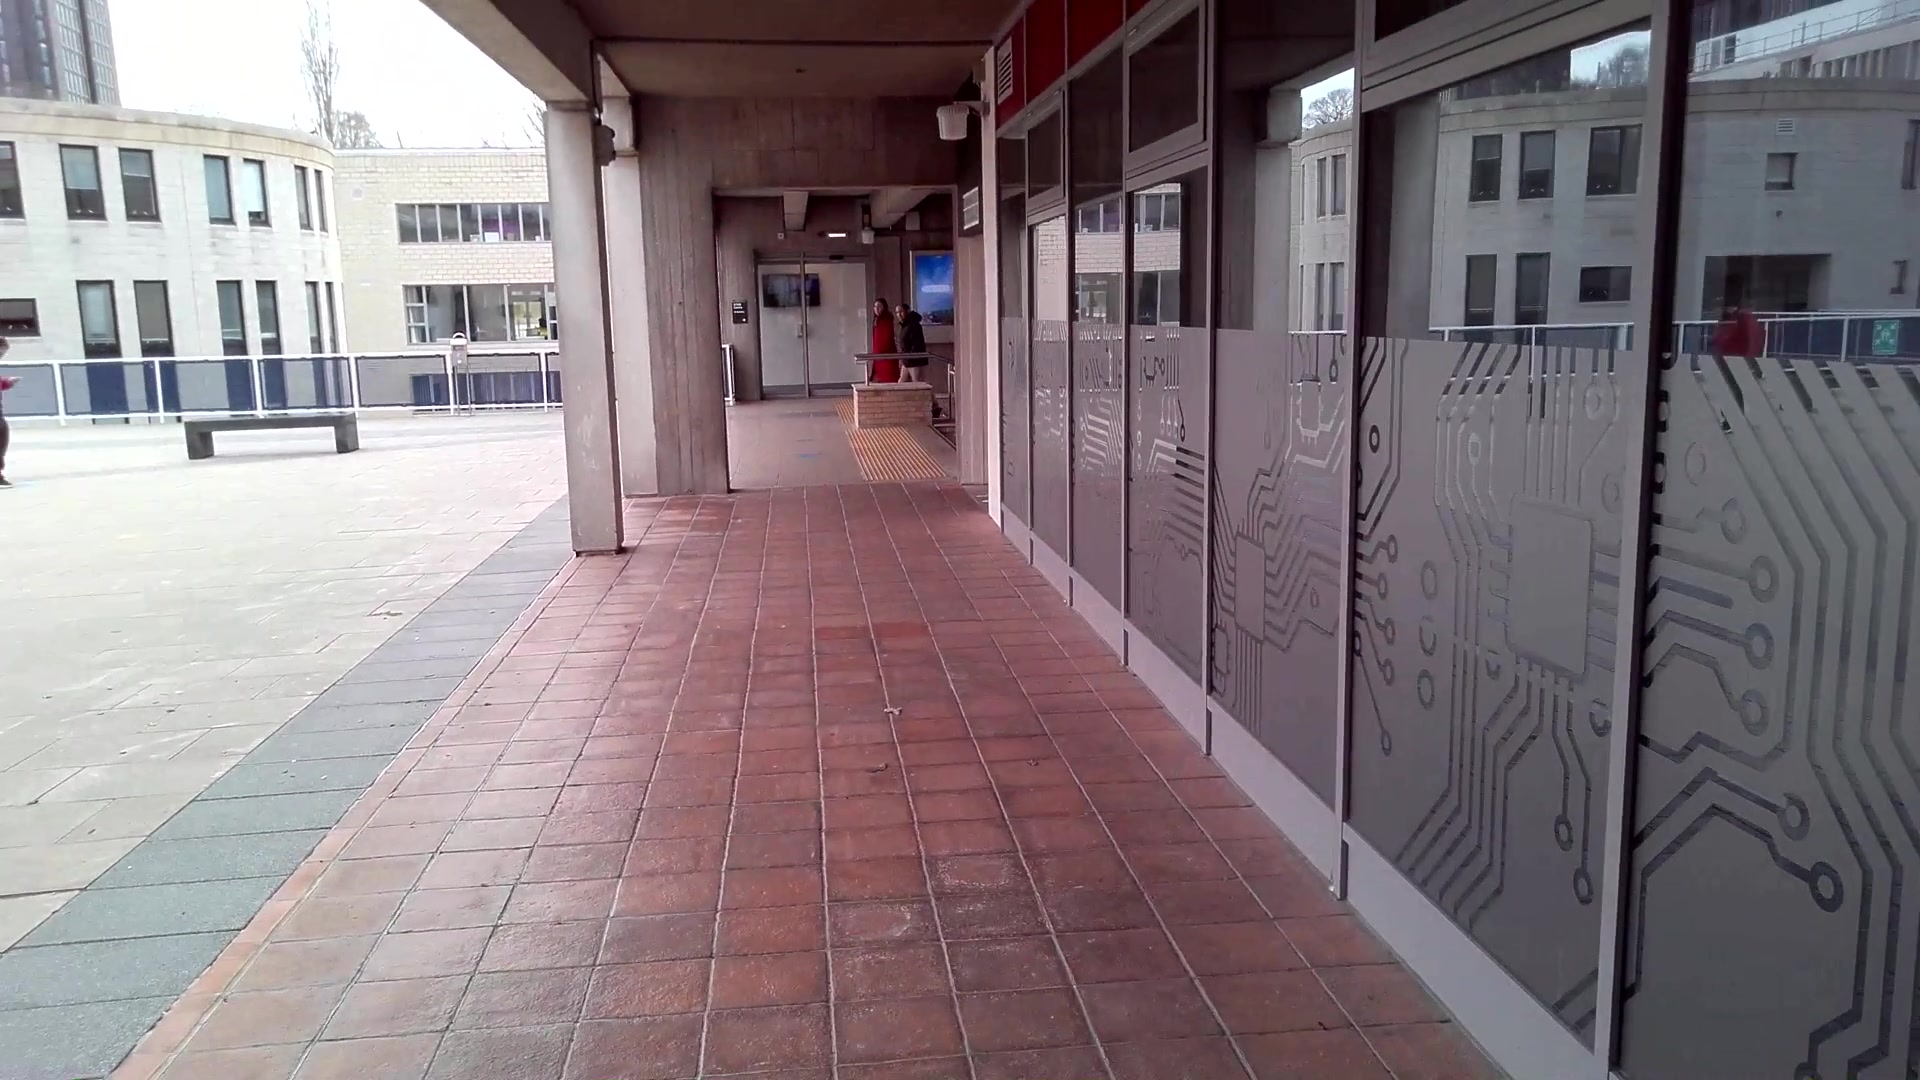Bench: (180, 411, 361, 459)
Person: (892, 299, 933, 389), (864, 295, 898, 394)
